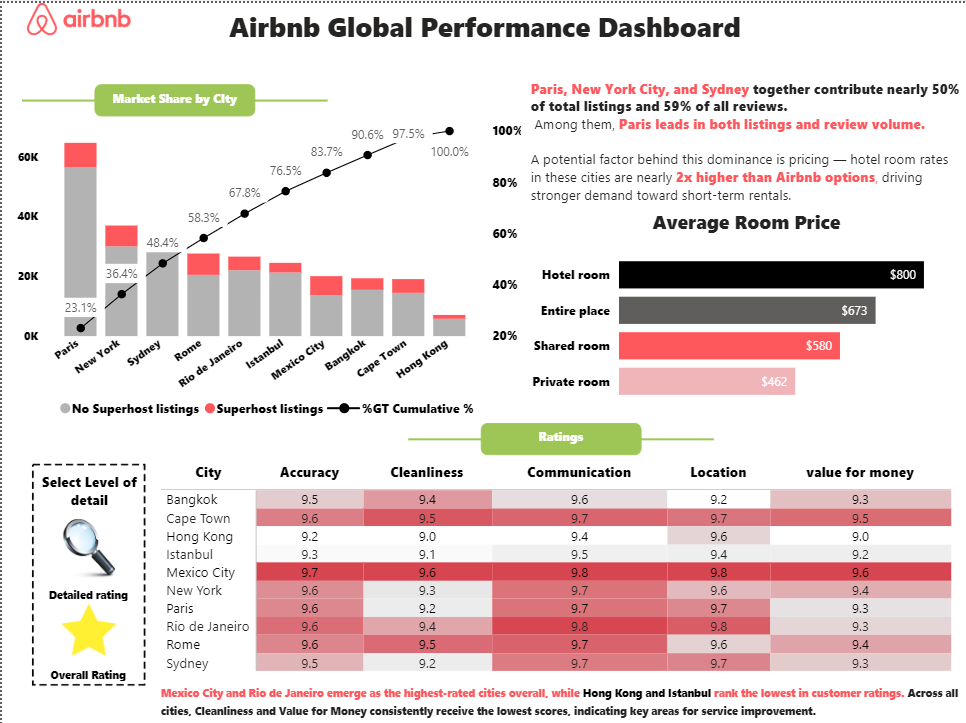

This screenshot's page, from the dashboard's own definition file:
{"tool":"powerbi","page":{"name":"Ratings","canvas":[960,720],"ordinal":1},"visuals":[{"type":"textbox","box":[216,0,528,64],"z":0},{"type":"image","box":[0,0,153,32.3],"z":1000},{"type":"shape","box":[20,88.4,304.1,17.6],"z":2000,"group":"g2"},{"type":"group","id":"g1","title":"Group 3","box":[404.2,418,304.8,32.3],"z":2000},{"type":"shape","box":[404.2,425.5,304.1,17.6],"z":2000,"group":"g1"},{"type":"textbox","box":[153,671.7,807.3,48.5],"z":3000},{"type":"lineStackedColumnComboChart","fields":{"Category":["Listings.city"],"Y":["Dax House.No Superhost listings","Dax House.Superhost listings"],"Y2":["Dax House.Cumulative %"]},"box":[10,109.5,511.3,312.2],"z":4000},{"type":"textbox","box":[521.2,70.9,439.1,134.3],"z":5000},{"type":"barChart","title":"Average Room Price","fields":{"Y":["Dax House.Average Room Price"],"Category":["Listings.room_type"]},"box":[521.2,205.3,439.1,205.3],"z":6000},{"type":"group","id":"g2","title":"Group 3","box":[20,80.9,304.8,32.3],"z":7000},{"type":"image","box":[0,421.7,172.9,294.8],"z":8000},{"type":"textbox","box":[92.2,80.9,160,32],"z":10000,"group":"g2"},{"type":"textbox","box":[476.4,418,160,32],"z":10000,"group":"g1"},{"type":"textbox","box":[30.5,462.8,112,51],"z":10000},{"type":"image","box":[47.9,513.8,77.1,59.7],"z":10000,"group":"g3"},{"type":"pivotTable","fields":{"Rows":["Listings.city"],"Values":["Dax House.Accuracy","Dax House.Cleanliness","Dax House.Communication","Dax House.Location","Dax House.value for money"]},"box":[153,452.8,807.3,218.9],"z":10500},{"type":"image","box":[48.5,594.6,75.9,58.5],"z":11000,"group":"g4"},{"type":"group","id":"g3","title":"Group 1","box":[30.5,513.8,112,100.8],"z":12000},{"type":"group","id":"g4","title":"Group 2","box":[30.5,594.6,112,94.5],"z":13000},{"type":"textbox","box":[30.5,573.5,112,41.1],"z":13001,"group":"g3"},{"type":"textbox","box":[30.5,653.1,112,36.1],"z":13002,"group":"g4"}]}

Visuals, with their boxes in screenshot pixels (x1, y1, x2, y2), scaled from the page's 960x720 canvas onto the 966x723 screenshot:
textbox: [217, 0, 749, 64]
image: [0, 0, 154, 32]
shape: [20, 89, 326, 106]
"Group 3" group: [407, 420, 713, 452]
shape: [407, 427, 713, 445]
textbox: [154, 674, 965, 722]
lineStackedColumnComboChart - Listings.city x Dax House.No Superhost listings: [10, 110, 525, 423]
textbox: [524, 71, 965, 206]
"Average Room Price" barChart: [524, 206, 965, 412]
"Group 3" group: [20, 81, 327, 114]
image: [0, 423, 174, 719]
textbox: [93, 81, 254, 113]
textbox: [479, 420, 640, 452]
textbox: [31, 465, 143, 516]
image: [48, 516, 126, 576]
pivotTable - Listings.city x Dax House.Accuracy: [154, 455, 965, 674]
image: [49, 597, 125, 656]
"Group 1" group: [31, 516, 143, 617]
"Group 2" group: [31, 597, 143, 692]
textbox: [31, 576, 143, 617]
textbox: [31, 656, 143, 692]
